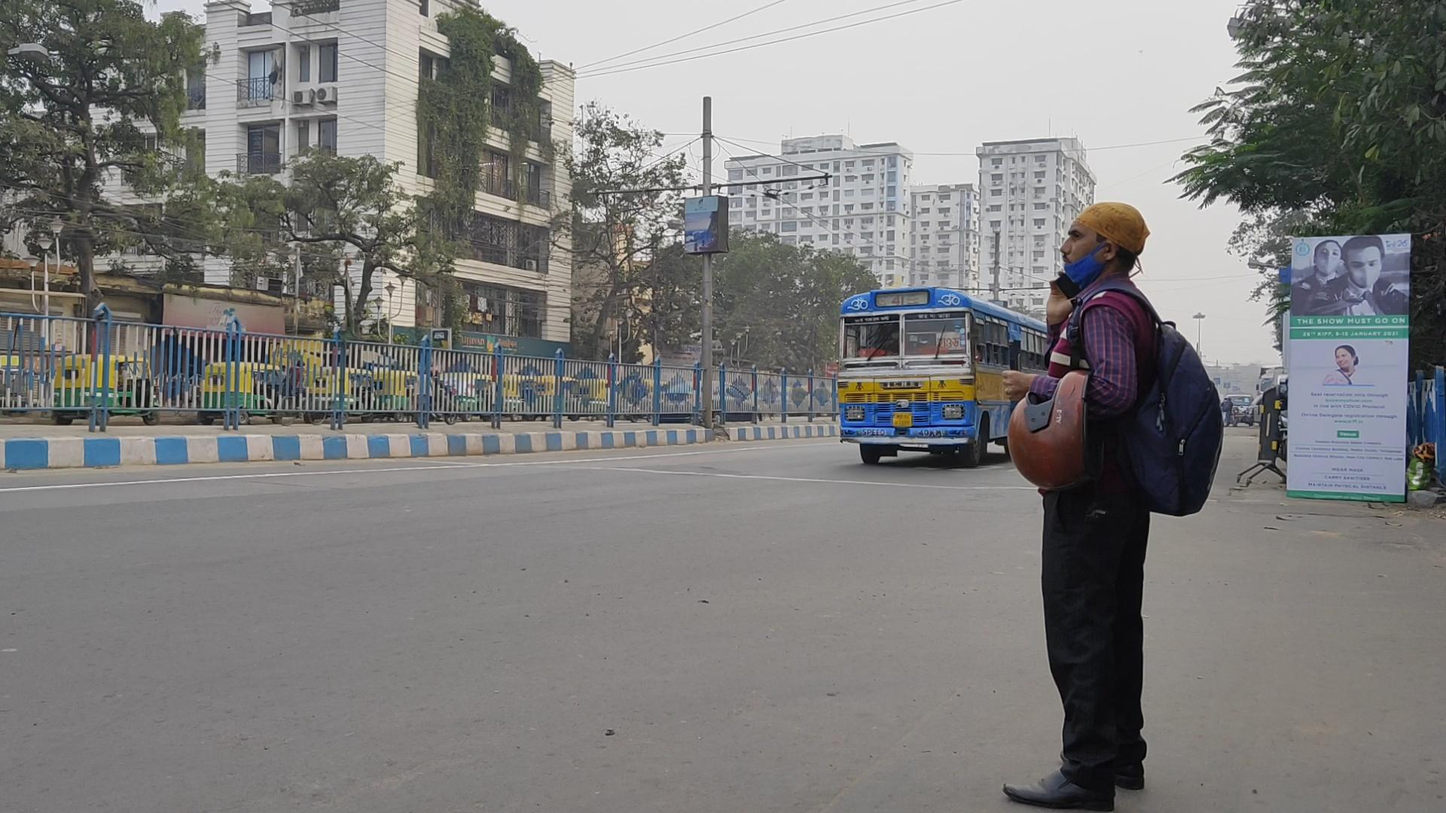Bus: (836, 283, 1047, 468)
